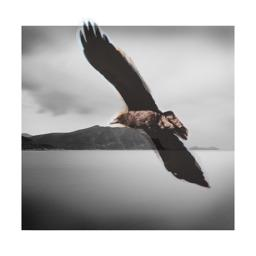Crow: (76, 18, 212, 192)
